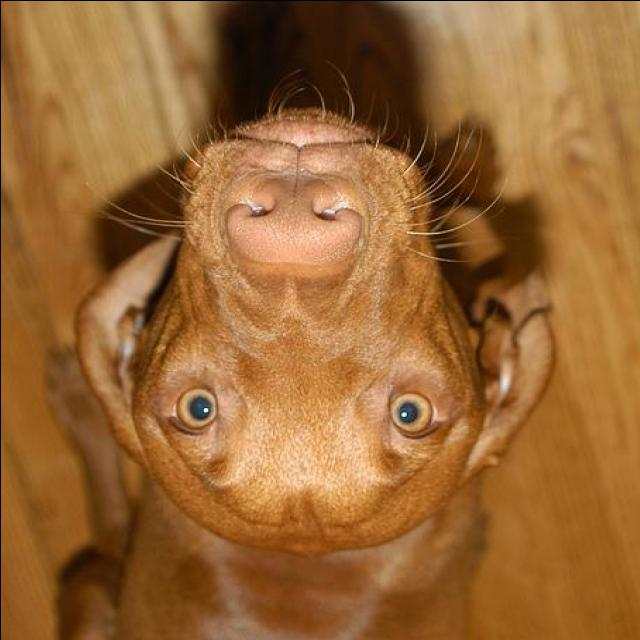vizsla: (39, 60, 554, 640)
